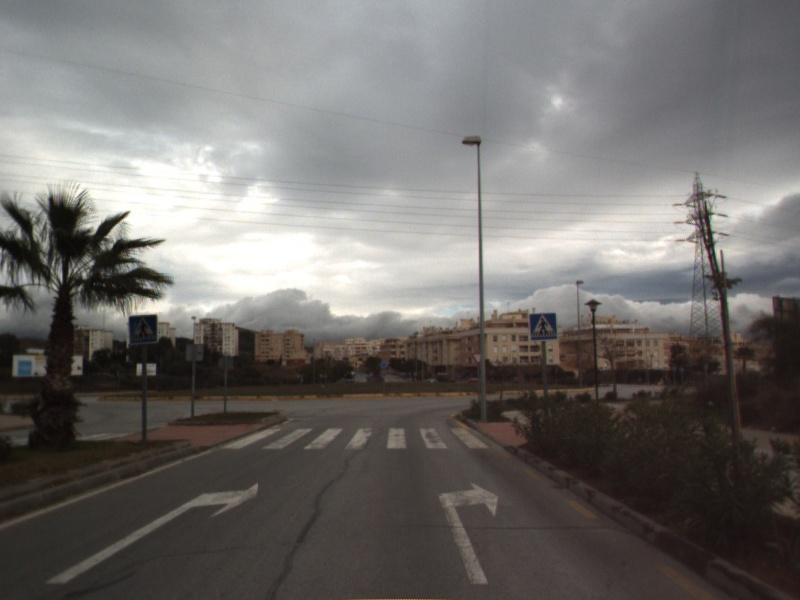RIGHT: (44, 480, 261, 586), (437, 480, 500, 586)
